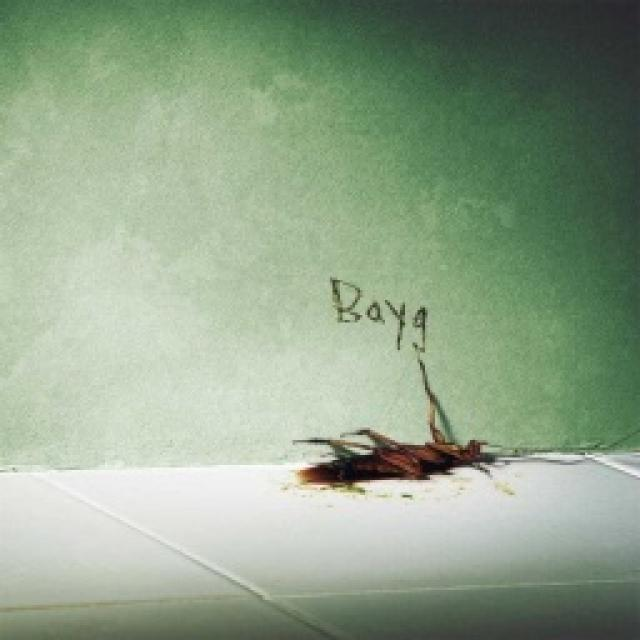cockroach: (266, 415, 544, 515)
